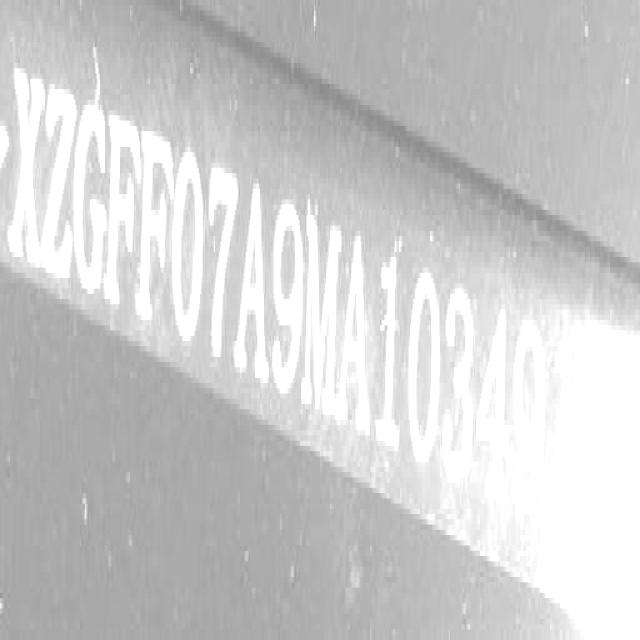0: (174, 137, 208, 360), (409, 254, 442, 474)
1: (374, 254, 402, 456), (556, 332, 576, 525)
3: (443, 284, 475, 496)
4: (477, 292, 508, 504)
7: (208, 153, 239, 374)
9: (270, 190, 304, 407), (510, 324, 547, 517)
A: (337, 218, 373, 450), (235, 171, 270, 392)
F: (140, 116, 173, 348), (108, 102, 140, 329)
G: (75, 91, 109, 314)
M: (302, 206, 341, 427)
X: (9, 66, 44, 278)
Z: (42, 72, 73, 295)
